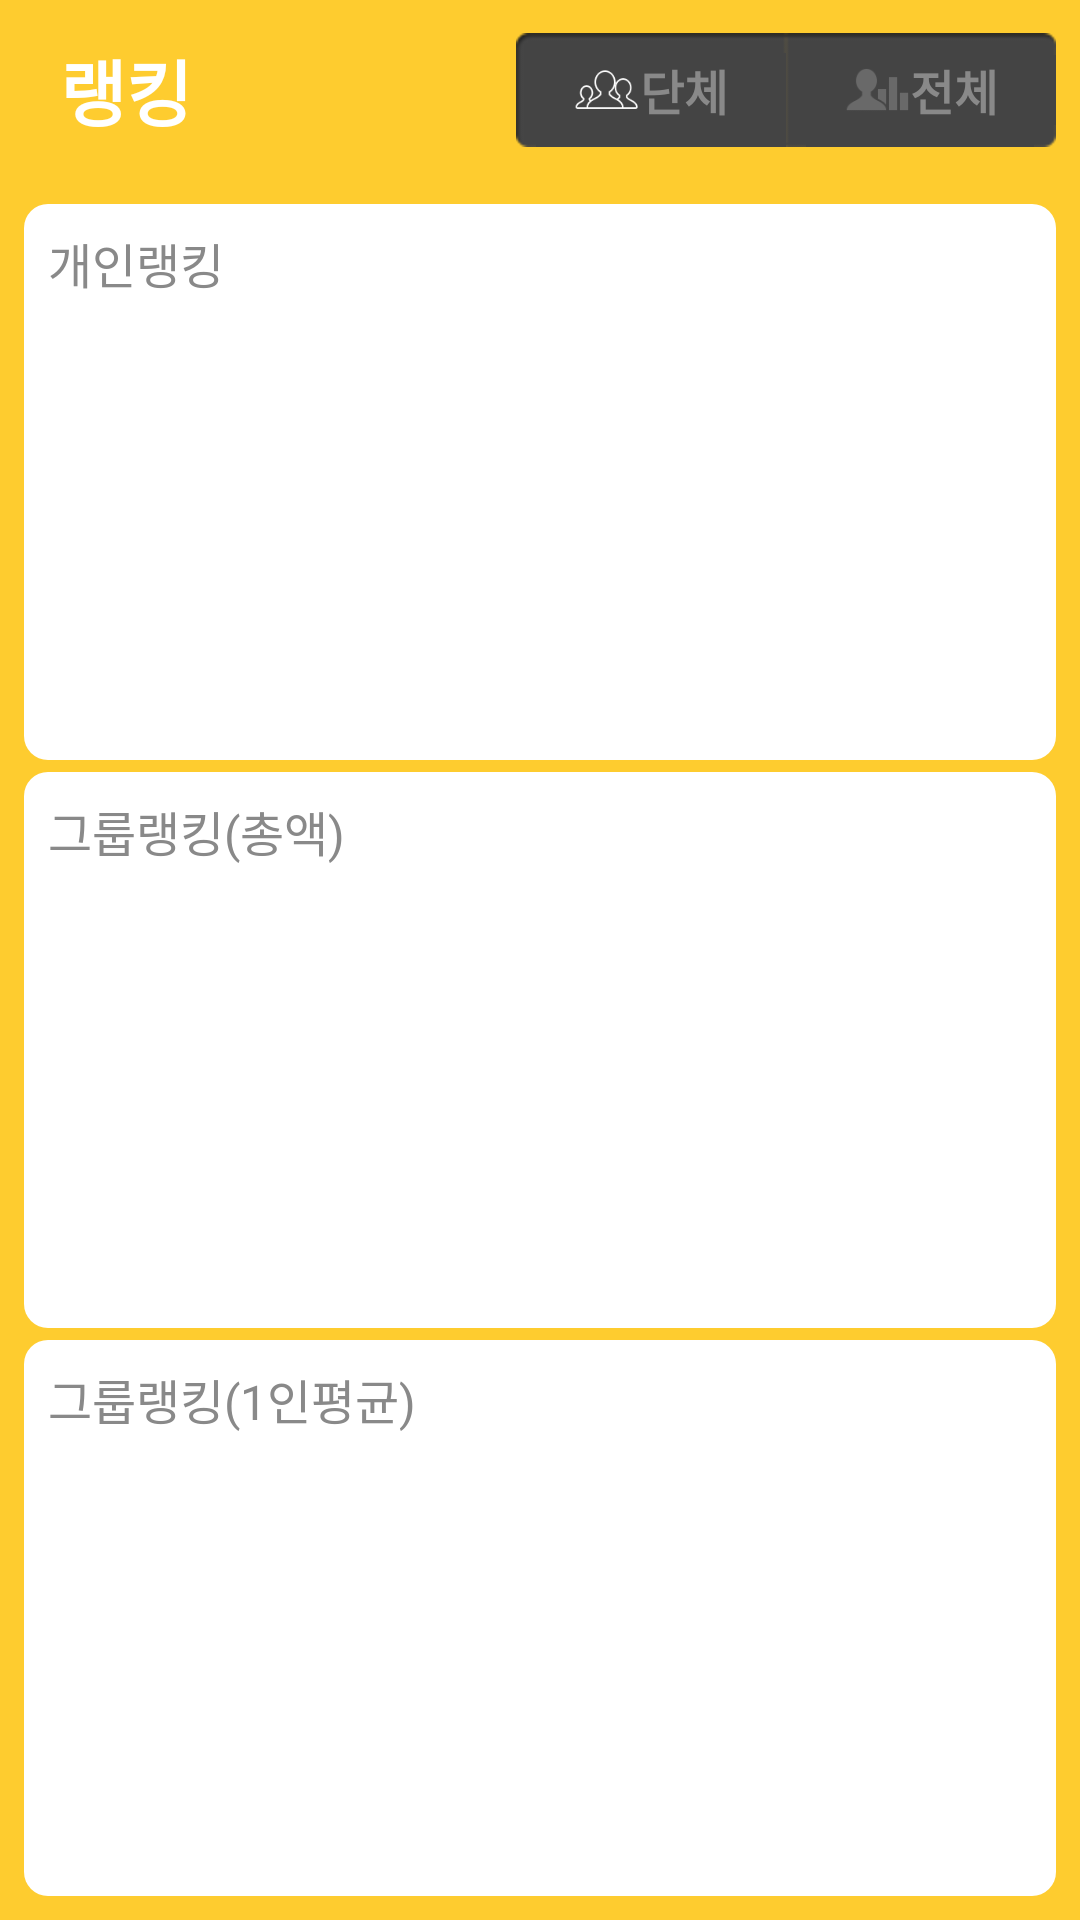

Point at icon controls on the screen. Image size 1080px x 1920px, points as (x,y).
rank member: (606,89)
